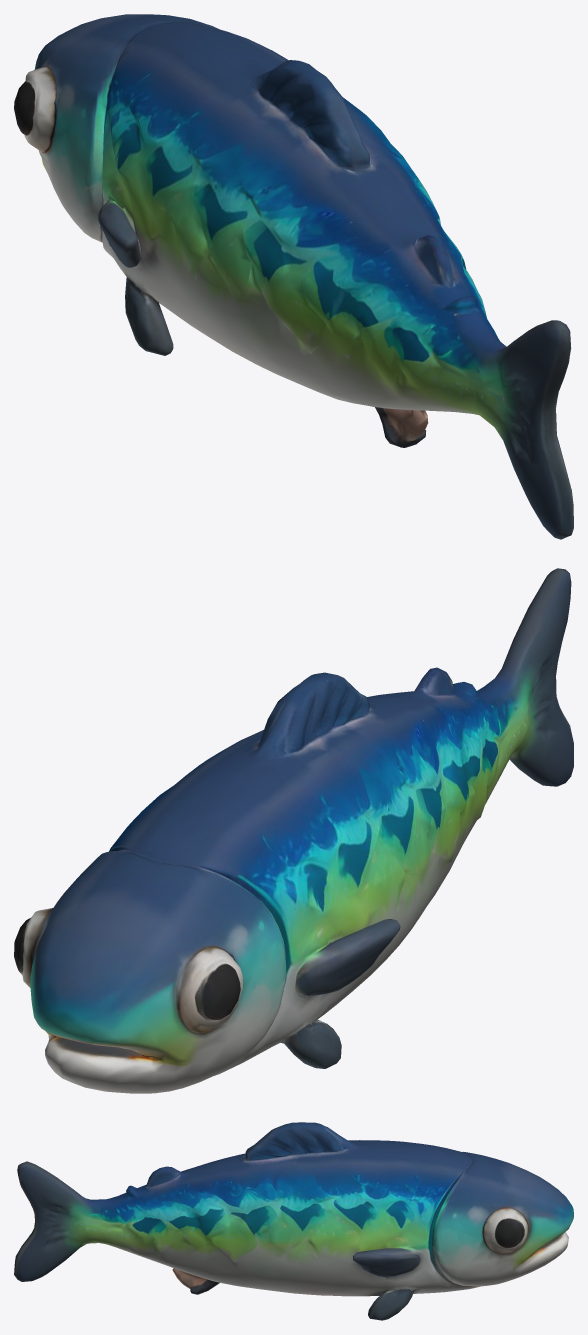
File: mackerel.glb
3 views of the same model, one above another, from view 1: azimuth 30°, elevation 25°; view 2: azimuth 150°, elevation 25°; view 3: azimuth 270°, elevation 25° (orthographic). The views are drawn at different scales.
Visible parts, largest first — view 1: tripo_node_ae302869-f0f8-4ea6-a4d6-252eaf742650; view 2: tripo_node_ae302869-f0f8-4ea6-a4d6-252eaf742650; view 3: tripo_node_ae302869-f0f8-4ea6-a4d6-252eaf742650.
Boxes of the visible parts, x1,y1,x2,y2 form: tripo_node_ae302869-f0f8-4ea6-a4d6-252eaf742650: (14, 14, 573, 539); tripo_node_ae302869-f0f8-4ea6-a4d6-252eaf742650: (14, 568, 573, 1093); tripo_node_ae302869-f0f8-4ea6-a4d6-252eaf742650: (14, 1122, 573, 1320).
Bounding box in the file's own units: 0.3174 × 0.341 × 0.9993.
1 material, 1 textured.
